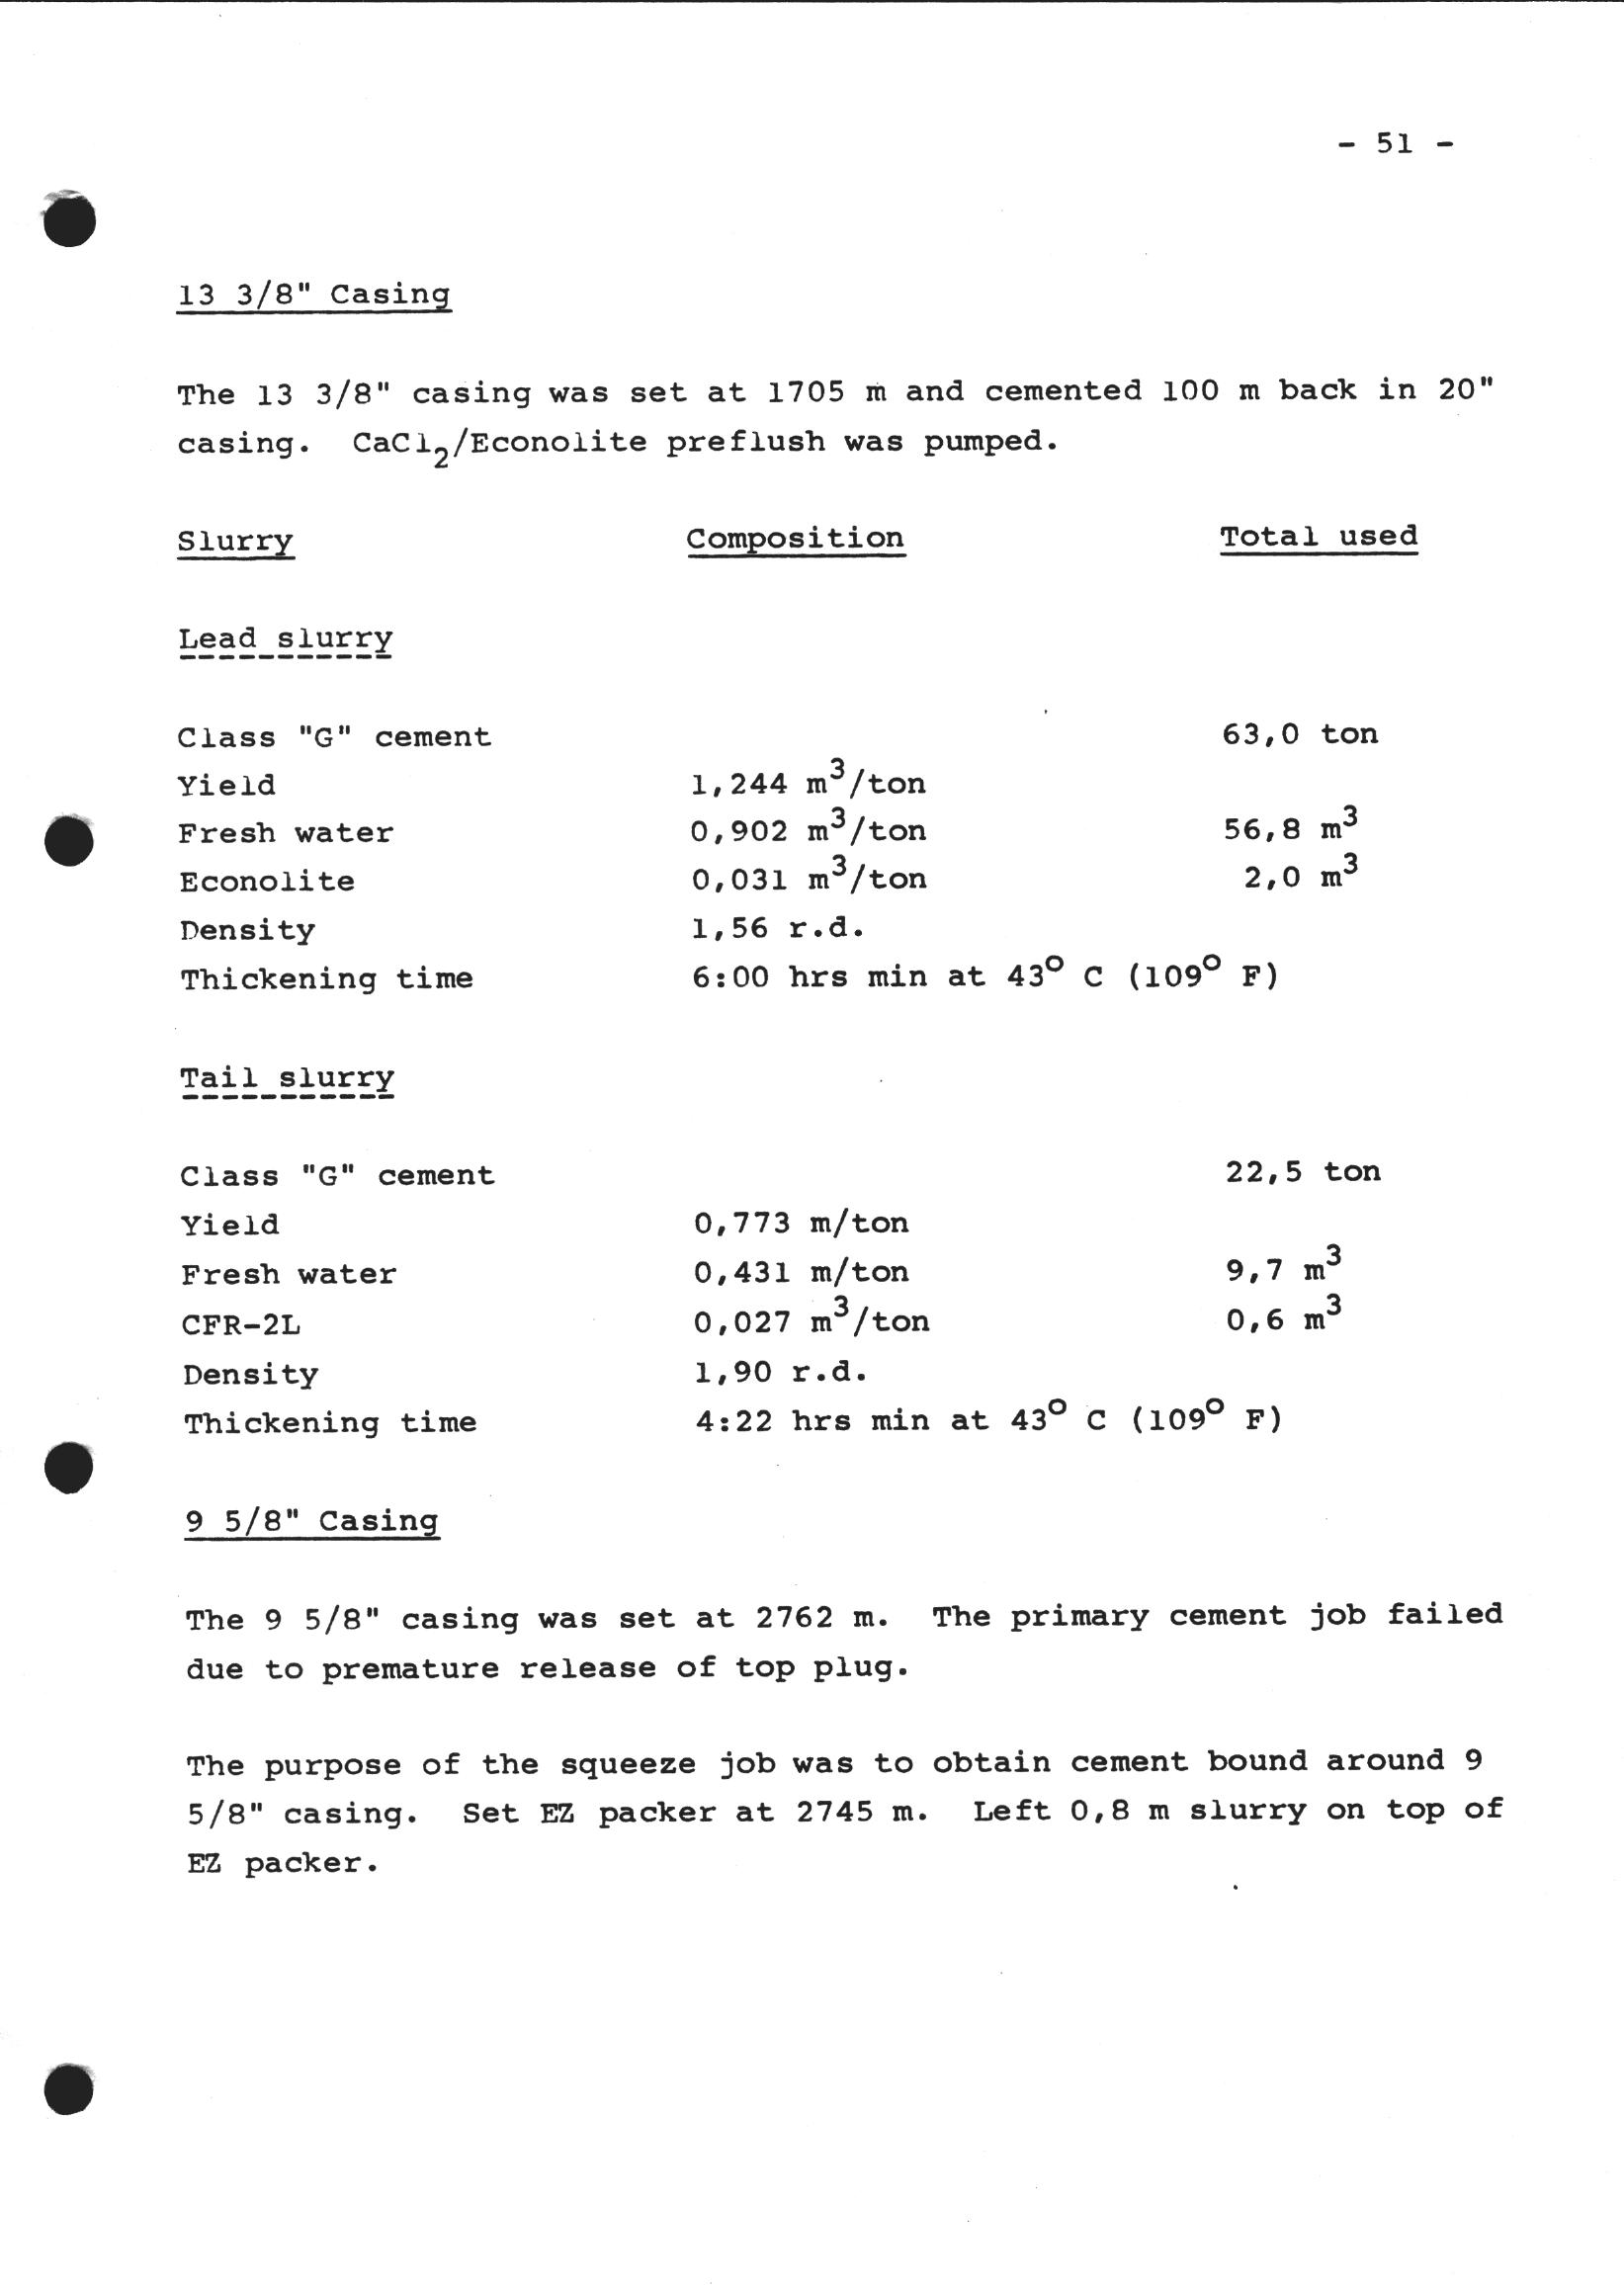table: (128, 496, 1522, 1478)
text: (142, 1494, 1548, 1930), (162, 257, 1554, 466)
